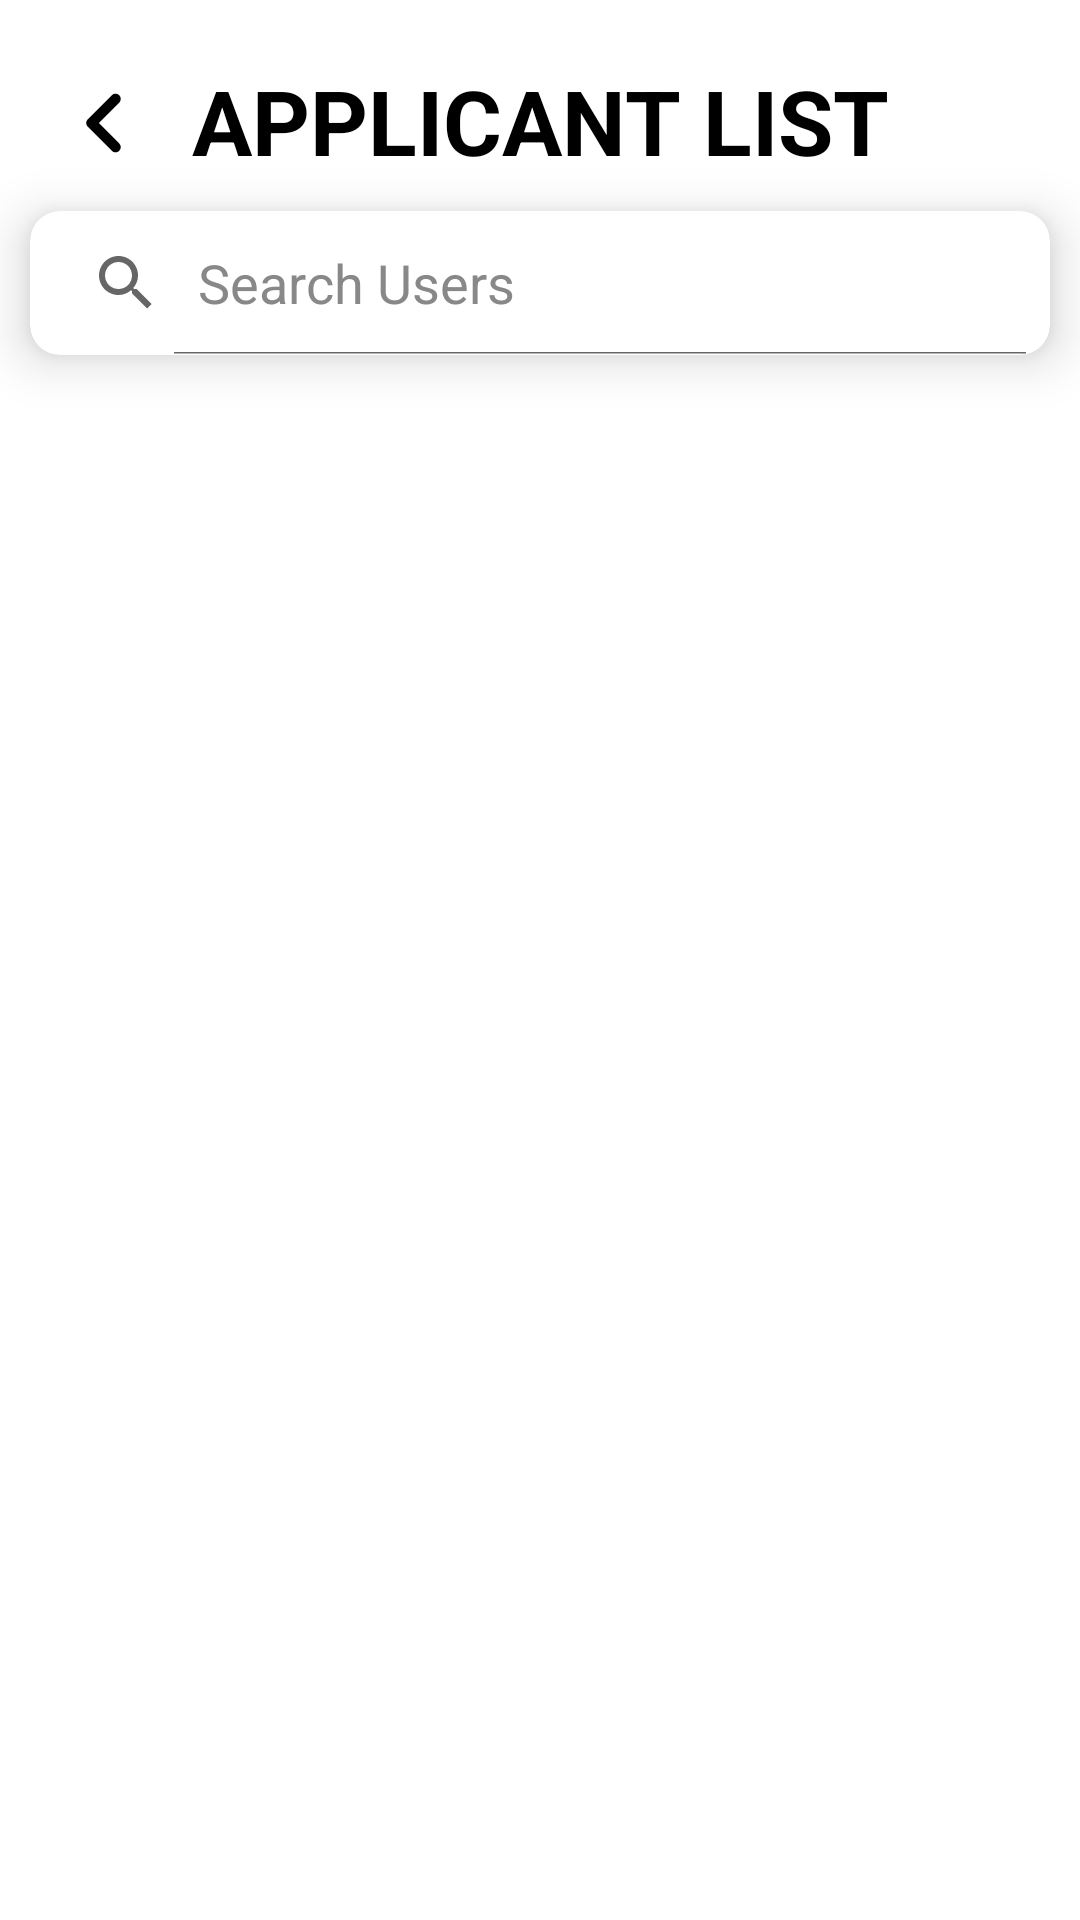

Where icons sit on this 1080px x 1920px app screen, as BBox(x1, y1, x2, y2):
left: BBox(86, 93, 121, 153)
